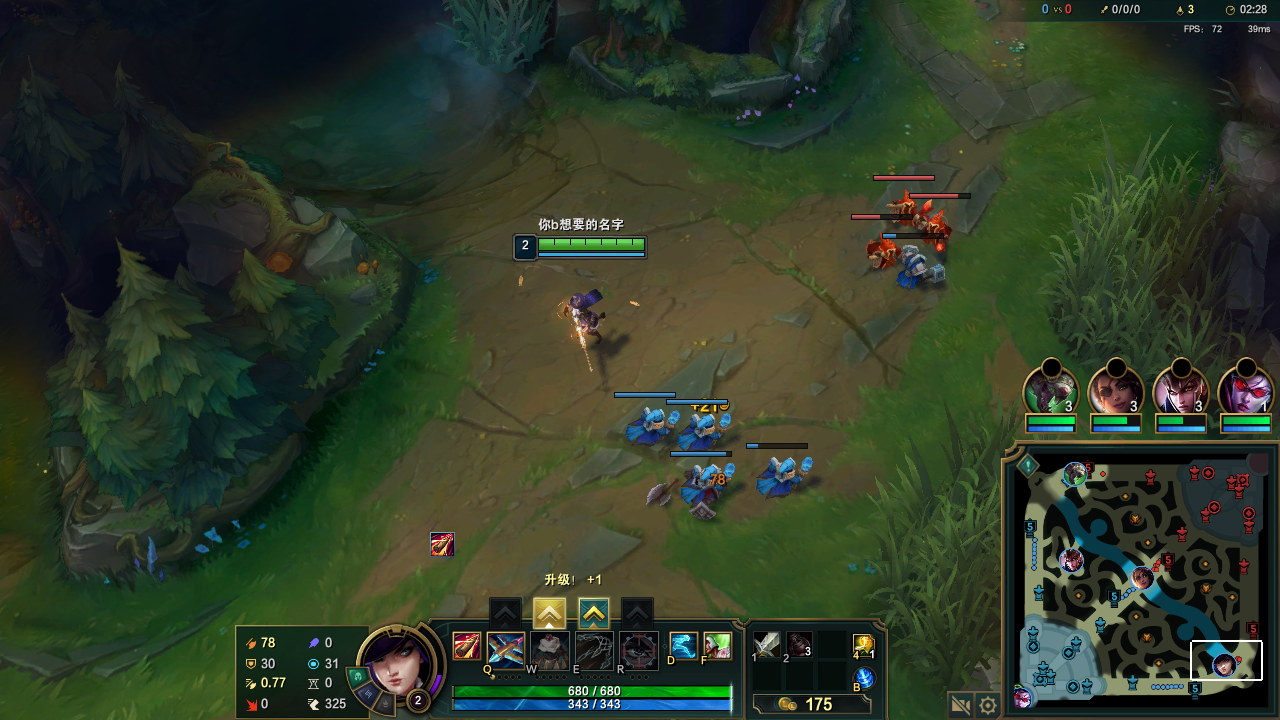DFXB: (868, 234, 896, 267), (923, 209, 951, 242), (889, 191, 916, 223)
Shenji: (582, 603, 606, 629)
Tuijianshengji: (539, 598, 562, 624)
WFXB: (618, 406, 681, 448), (757, 458, 816, 497), (682, 463, 733, 508), (900, 242, 945, 289), (682, 410, 734, 450)
Yita: (1186, 678, 1203, 698)
